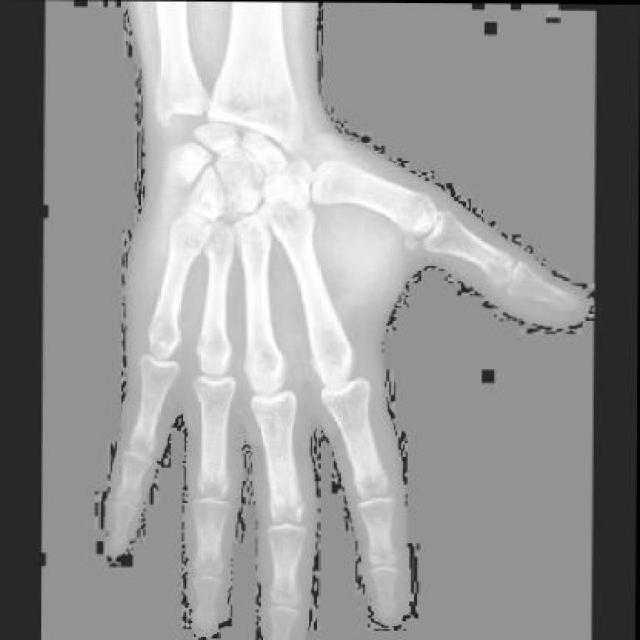Fracture: (253, 143, 276, 170)
